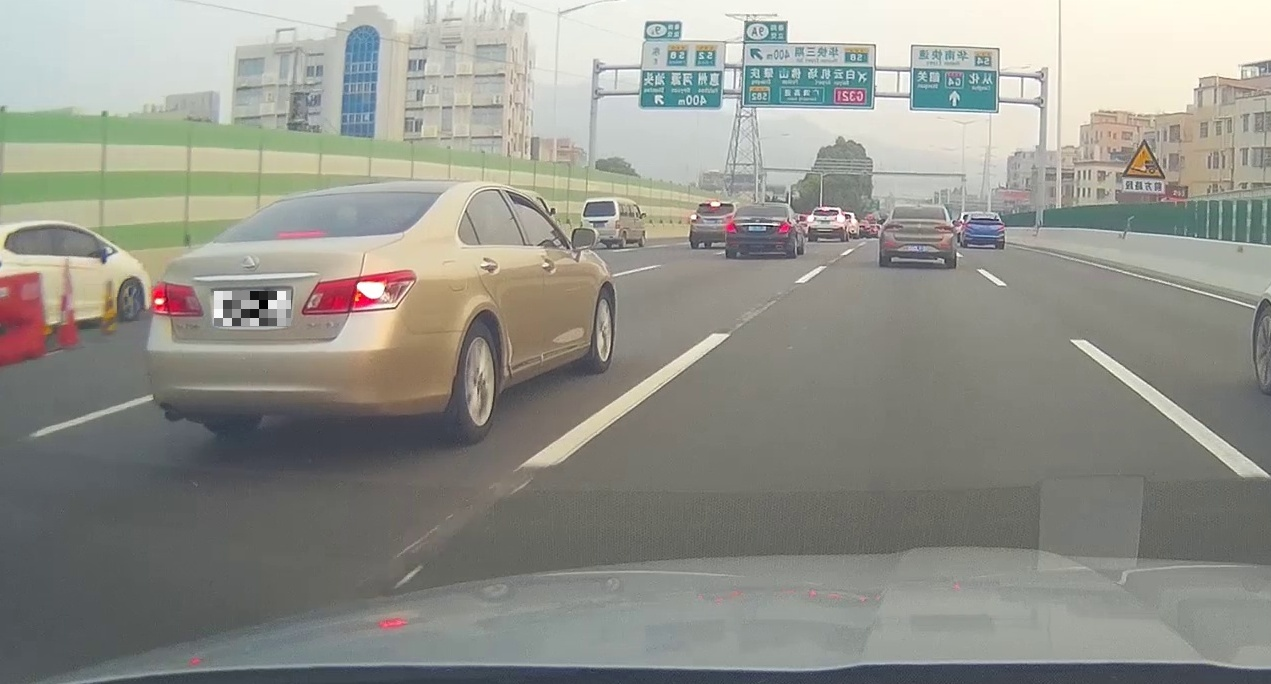L_light: (149, 281, 204, 317), (884, 223, 903, 231), (726, 221, 738, 233)
R_light: (302, 269, 417, 316), (934, 223, 955, 233), (777, 221, 792, 234)
T_light: (275, 230, 325, 239), (913, 206, 924, 210), (755, 206, 768, 209)
day-no: (880, 204, 956, 269), (725, 203, 794, 259)
day-right: (146, 179, 449, 447)
plate_1: (214, 291, 291, 326)
